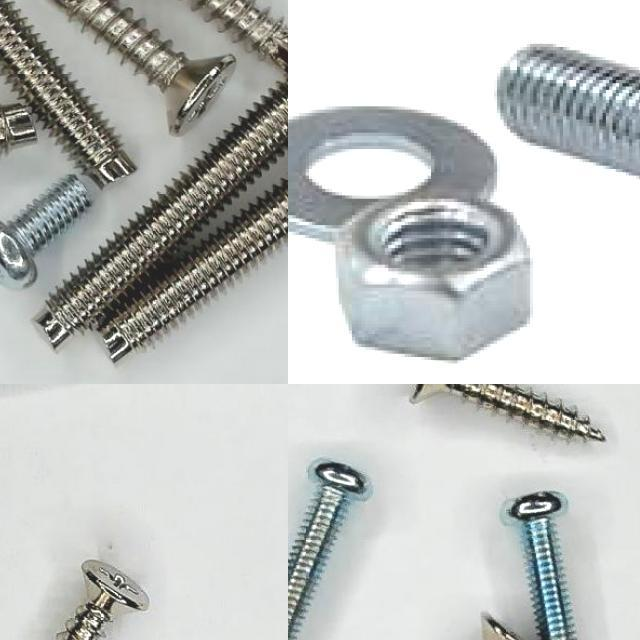Screw: (35, 78, 288, 347), (98, 178, 288, 361), (0, 0, 135, 186), (52, 0, 235, 134), (494, 44, 640, 180), (288, 461, 364, 640), (411, 384, 605, 441), (0, 176, 90, 289), (509, 491, 577, 640), (55, 561, 147, 640), (192, 0, 288, 74)
